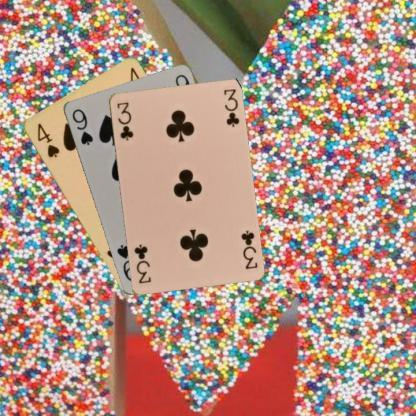3c: (238, 226, 259, 271), (114, 98, 134, 141)
4s: (34, 120, 61, 158)
9s: (68, 106, 94, 146)
